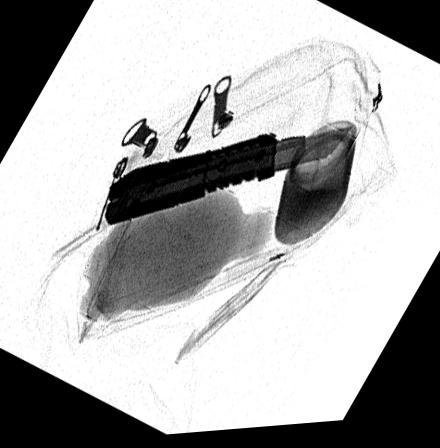Knife: (102, 130, 355, 229)
